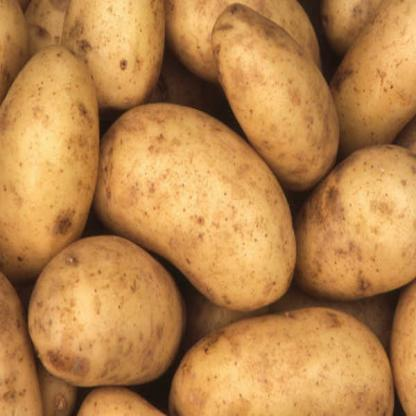potato: (98, 104, 298, 310), (166, 302, 394, 415), (213, 4, 340, 192), (29, 236, 186, 386), (0, 38, 99, 275), (294, 139, 415, 307), (333, 0, 415, 149), (63, 0, 166, 101)
